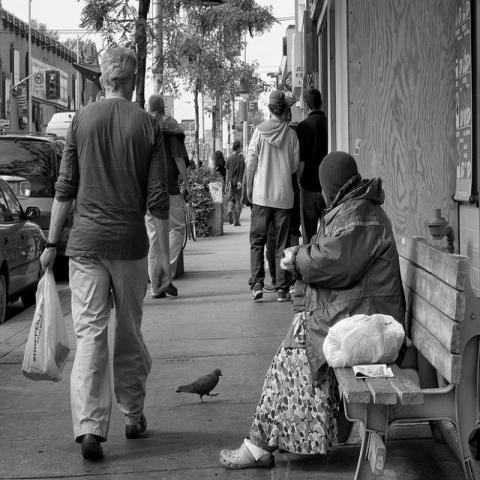car: (3, 126, 68, 236), (0, 177, 46, 321)
